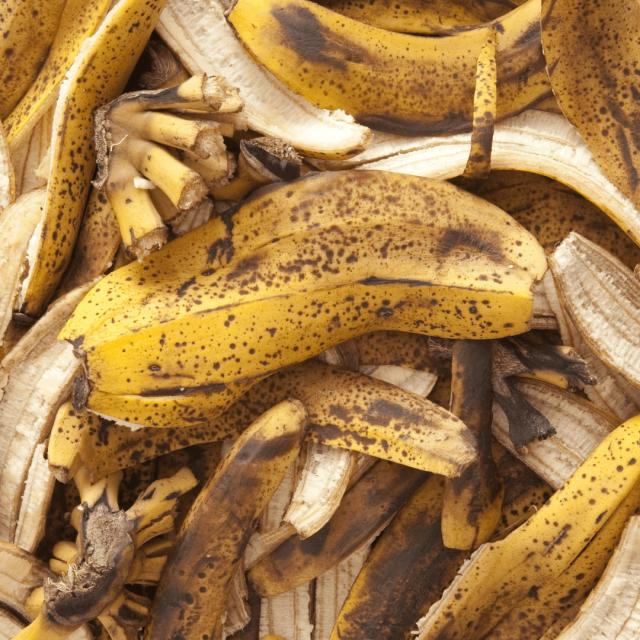banana_peel: (15, 6, 629, 629), (45, 145, 558, 464)
